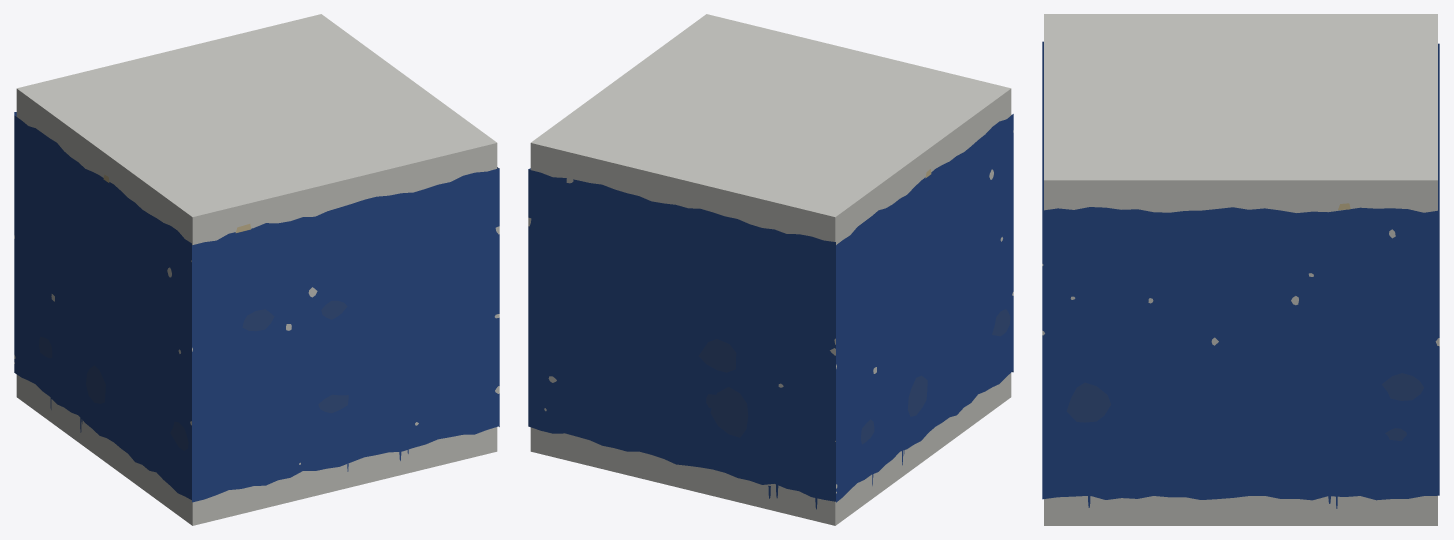
Rendered from pillar_band_blau.glb.
3 renders of one model, left to right at view 1: azimuth 30°, elevation 25°; view 2: azimuth 150°, elevation 25°; view 3: azimuth 270°, elevation 25°, orthographic. The views are drawn at different scales.
Parts seen in each view (by area): view 1: band; view 2: band; view 3: band.
Part boxes in pixels (box(x1,y1,x2,y2)): band: box(14, 14, 499, 525); band: box(528, 14, 1013, 525); band: box(1042, 14, 1439, 525).
Size of the model in its own units: 1 by 0.96 by 1.
